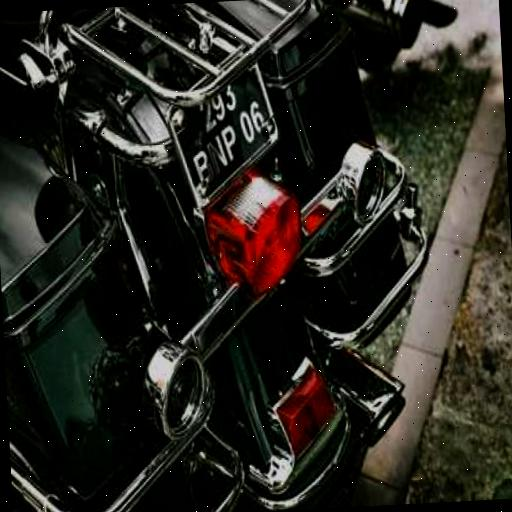number plate: (160, 70, 290, 204)
